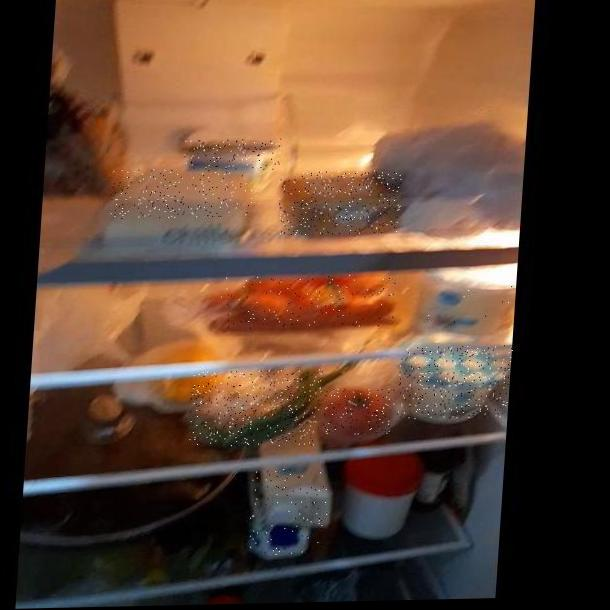butter: (277, 170, 404, 236)
carrot: (217, 274, 396, 330)
cheese: (110, 167, 254, 219)
green chilies: (188, 369, 323, 448)
milk: (248, 467, 330, 556)
tomato: (322, 388, 396, 435)
yoghurt: (397, 345, 513, 420), (427, 268, 517, 337), (183, 139, 283, 172)
